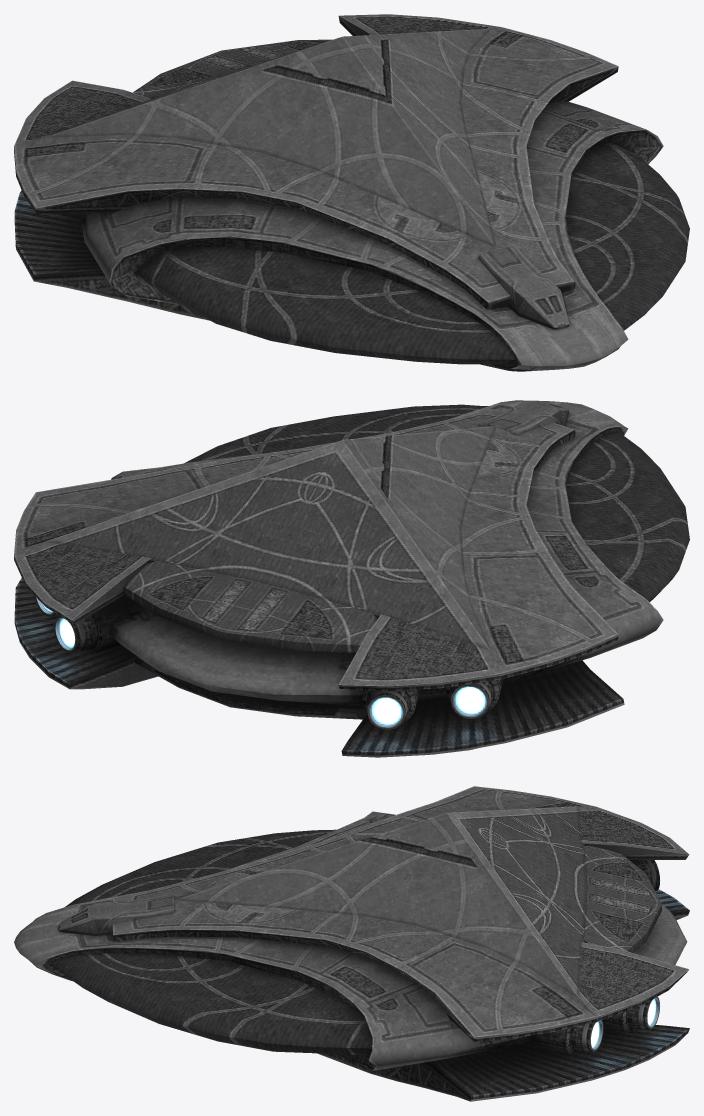
Rendered from stargate_-_alkesh.glb.
3 views of the same model, one above another, from view 1: azimuth 30°, elevation 25°; view 2: azimuth 150°, elevation 25°; view 3: azimuth 270°, elevation 25° (orthographic). The views are drawn at different scales.
Visible parts, largest first — view 1: Object_2; view 2: Object_2; view 3: Object_2.
Boxes of the visible parts, box(x1,y1,x2,y2) form: Object_2: box(14, 14, 689, 371); Object_2: box(14, 400, 689, 757); Object_2: box(14, 786, 689, 1101).
Bounding box in the file's own units: 24.14 × 9.37 × 27.07.
Materials: 1 (1 with a texture image).
